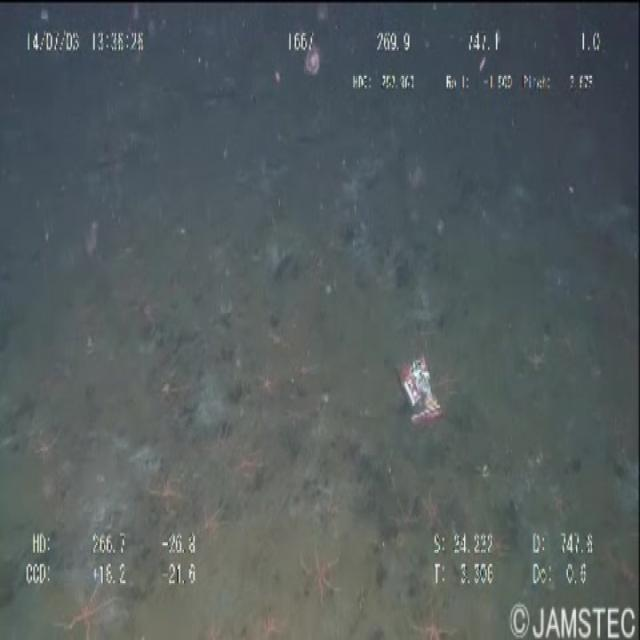Litter: (389, 334, 452, 439)
